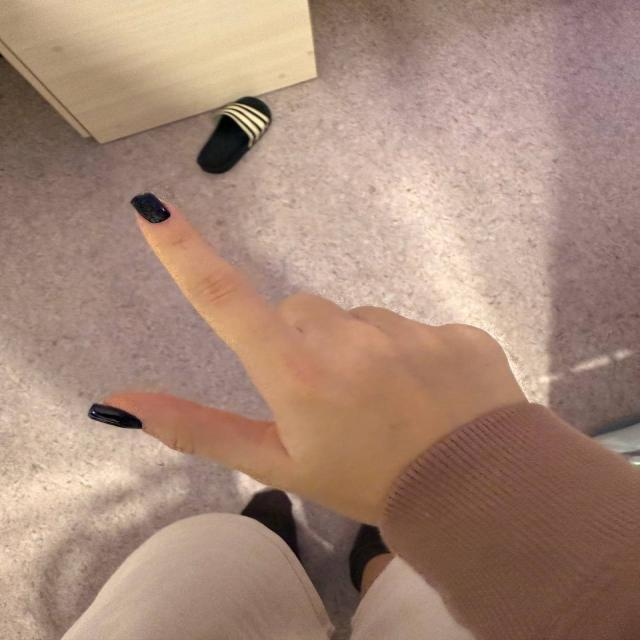-: (75, 181, 568, 485)
